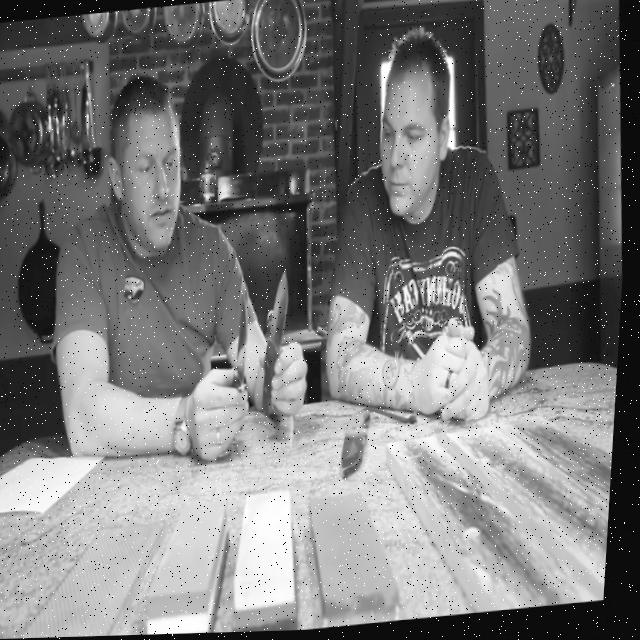knife: (256, 270, 301, 417), (341, 409, 380, 481), (230, 295, 257, 394)
